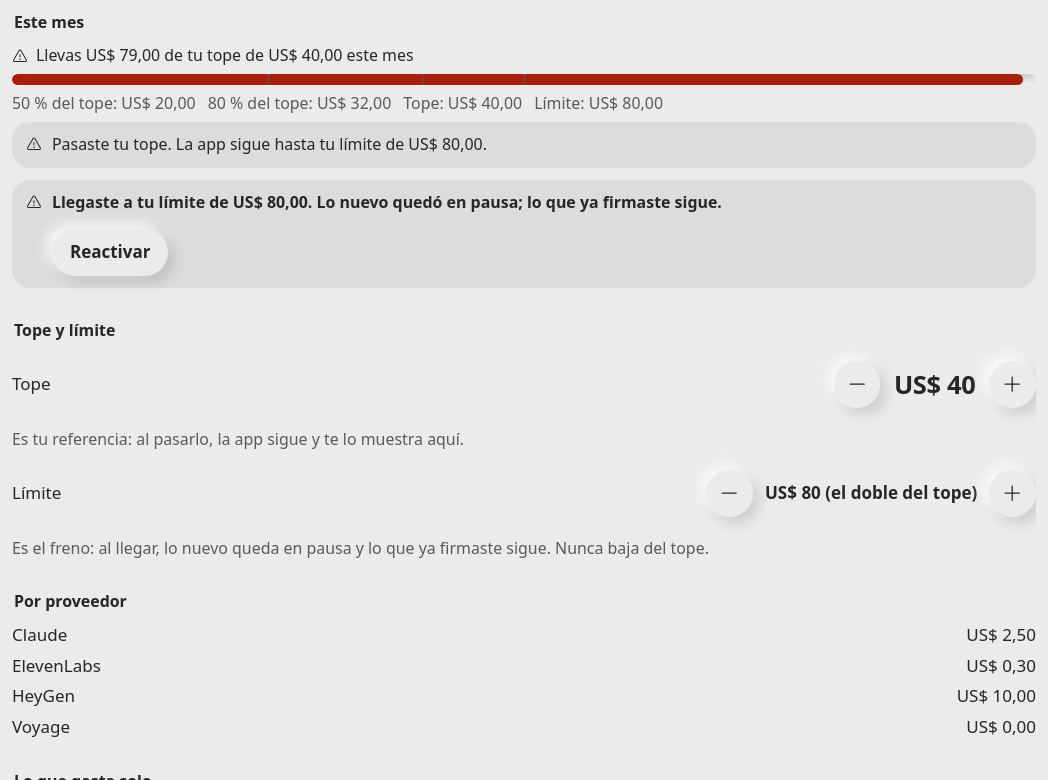
Test case: PantallaDePresupuesto › at the limit offers Reactivar, prefilled with the limit plus the cap, with one confirmation
The image size is (1048, 780).
Expected: the text "Llegaste a tu límite de US$ 80,00. Lo nuevo quedó en pausa; lo que ya firmaste sigue." is shown, [52,191,722,213]
Click the button "Reactivar". click: {"x": 110, "y": 252}
box: [52,229,168,276]
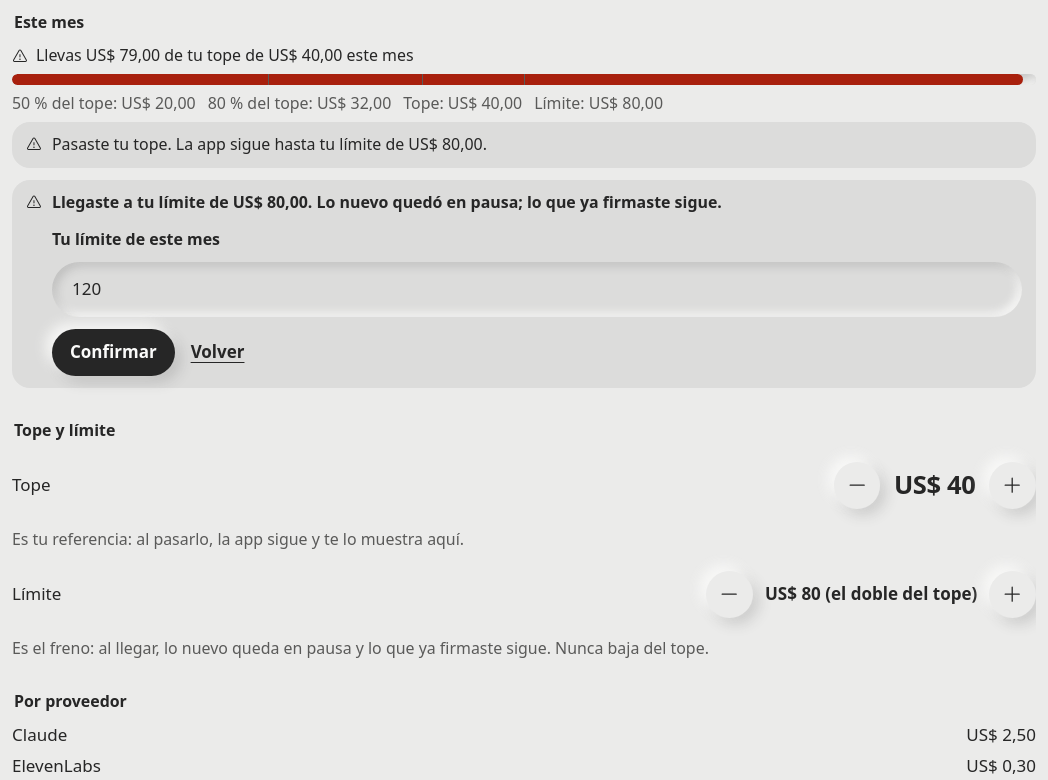
Expected: the field labelled "Tu límite de este mes" holds "120", [52,262,1022,317]
Click the button "Confirmar". click: {"x": 113, "y": 353}
box: [52,329,175,376]
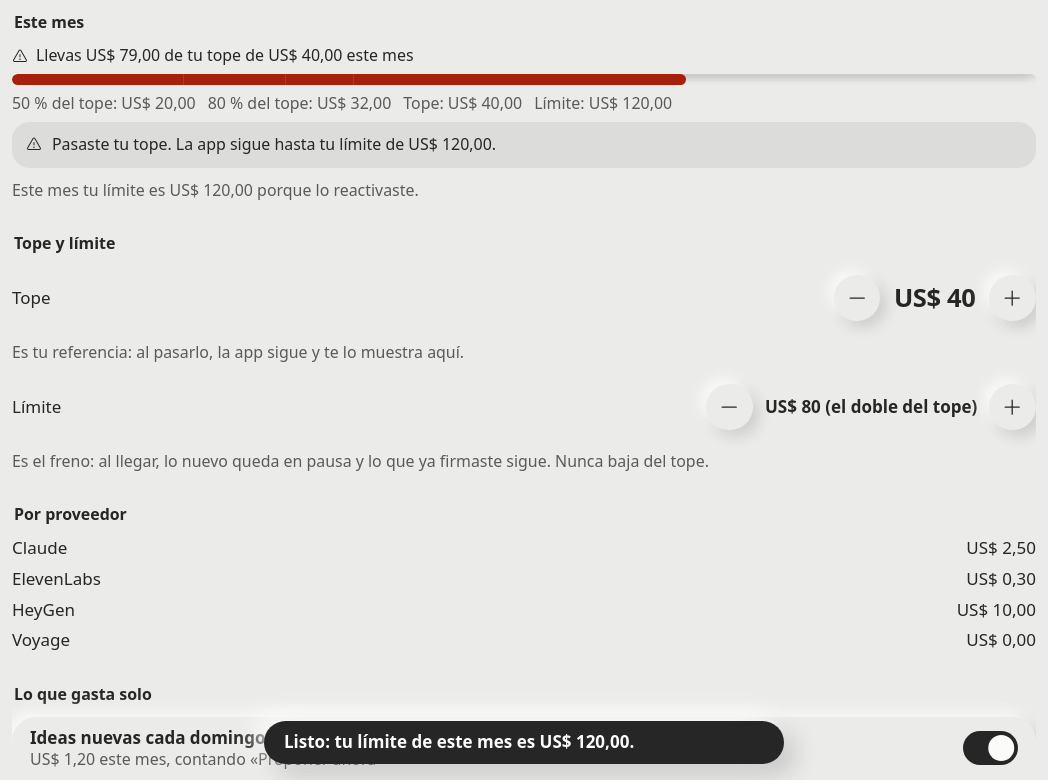
Expected: the button "Reactivar" is not shown
Expected: the text "Listo: tu límite de este mes es US$ 120,00." is shown, [284,730,634,753]
Expected: the text "Este mes tu límite es US$ 120,00 porque lo reactivaste." is shown, [12,179,419,201]
